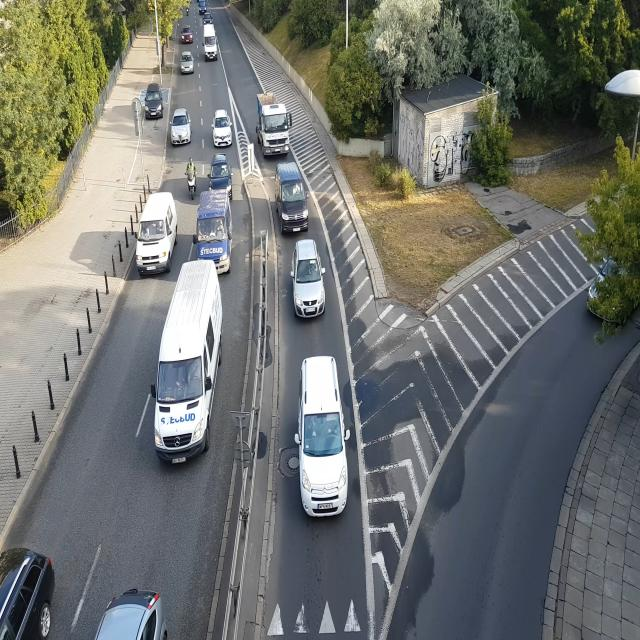car: (152, 257, 227, 472), (293, 351, 354, 524), (0, 538, 57, 640), (91, 584, 175, 640), (138, 180, 179, 280), (290, 236, 328, 321), (272, 165, 316, 233), (197, 188, 231, 274), (208, 151, 235, 202), (212, 106, 232, 154), (142, 80, 164, 122), (170, 107, 192, 147), (203, 26, 218, 61), (179, 50, 197, 78), (180, 20, 193, 43), (197, 0, 210, 17), (202, 12, 214, 28)
motorcycle: (185, 155, 199, 201), (185, 0, 191, 18)
truck: (255, 75, 294, 160)
